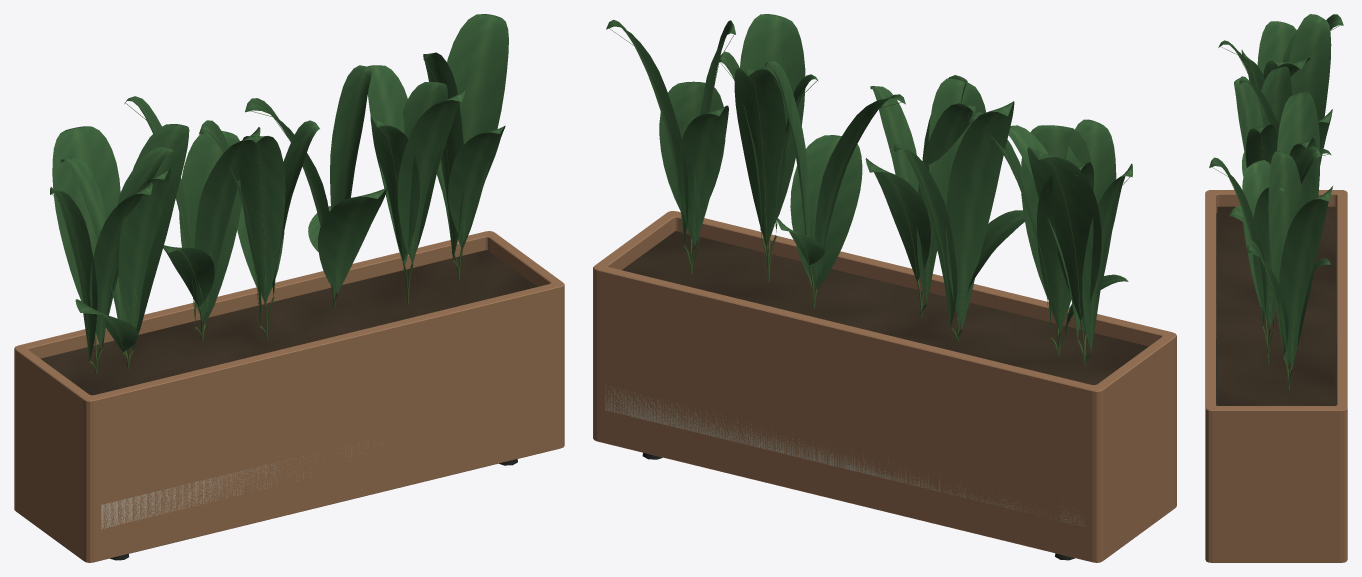
The model's file is separator-3.glb.
3 renders of one model, left to right at view 1: azimuth 30°, elevation 25°; view 2: azimuth 150°, elevation 25°; view 3: azimuth 270°, elevation 25°, orthographic. The views are drawn at different scales.
Parts seen in each view (by area): view 1: Planter_oiled_oak, Planter_foliage, Planter_loose_soil, Planter_matte_accent, Planter_leaf_veins, Planter_petioles; view 2: Planter_oiled_oak, Planter_foliage, Planter_loose_soil, Planter_matte_accent, Planter_leaf_veins, Planter_petioles; view 3: Planter_oiled_oak, Planter_foliage, Planter_loose_soil, Planter_inner_liner, Planter_leaf_veins, Planter_petioles.
Boxes of the visible parts, x1,y1,x2,y2 form: Planter_oiled_oak: [14, 231, 564, 562]; Planter_foliage: [50, 14, 508, 360]; Planter_loose_soil: [40, 250, 536, 395]; Planter_matte_accent: [101, 438, 382, 529]; Planter_leaf_veins: [52, 58, 496, 353]; Planter_petioles: [89, 242, 464, 373]; Planter_oiled_oak: [593, 211, 1176, 562]; Planter_foliage: [606, 14, 1132, 352]; Planter_loose_soil: [622, 231, 1148, 384]; Planter_matte_accent: [605, 385, 1084, 526]; Planter_leaf_veins: [609, 28, 1129, 345]; Planter_petioles: [683, 235, 1091, 365]; Planter_oiled_oak: [1205, 190, 1347, 562]; Planter_foliage: [1209, 14, 1343, 368]; Planter_loose_soil: [1217, 206, 1335, 405]; Planter_inner_liner: [1216, 213, 1336, 405]; Planter_leaf_veins: [1212, 25, 1339, 361]; Planter_petioles: [1262, 320, 1292, 393].
Size of the model in its own units: 1.1 by 0.9 by 0.3.
